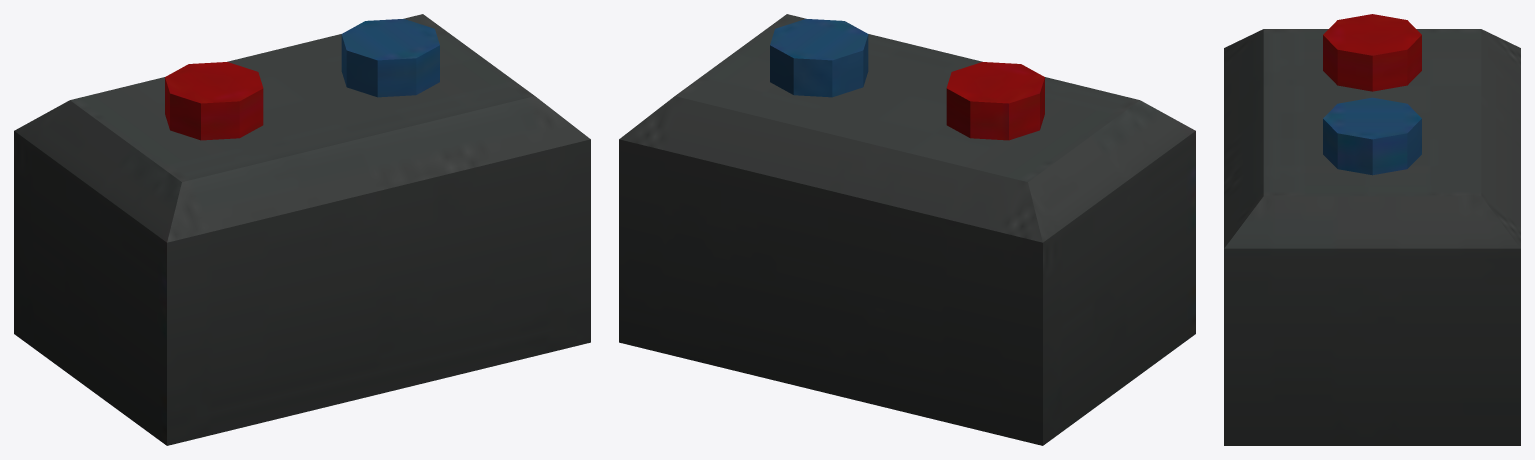
File: battery.glb
3 renders of one model, left to right at view 1: azimuth 30°, elevation 25°; view 2: azimuth 150°, elevation 25°; view 3: azimuth 270°, elevation 25°, orthographic. The views are drawn at different scales.
Visible parts, largest first — view 1: battery; view 2: battery; view 3: battery.
Boxes of the visible parts, x1=… form: battery: x1=14, y1=14, x2=590, y2=445; battery: x1=619, y1=14, x2=1195, y2=445; battery: x1=1224, y1=14, x2=1520, y2=445.
Size of the model in its own units: 0.24 by 0.15 by 0.15.
1 material, 1 textured.
